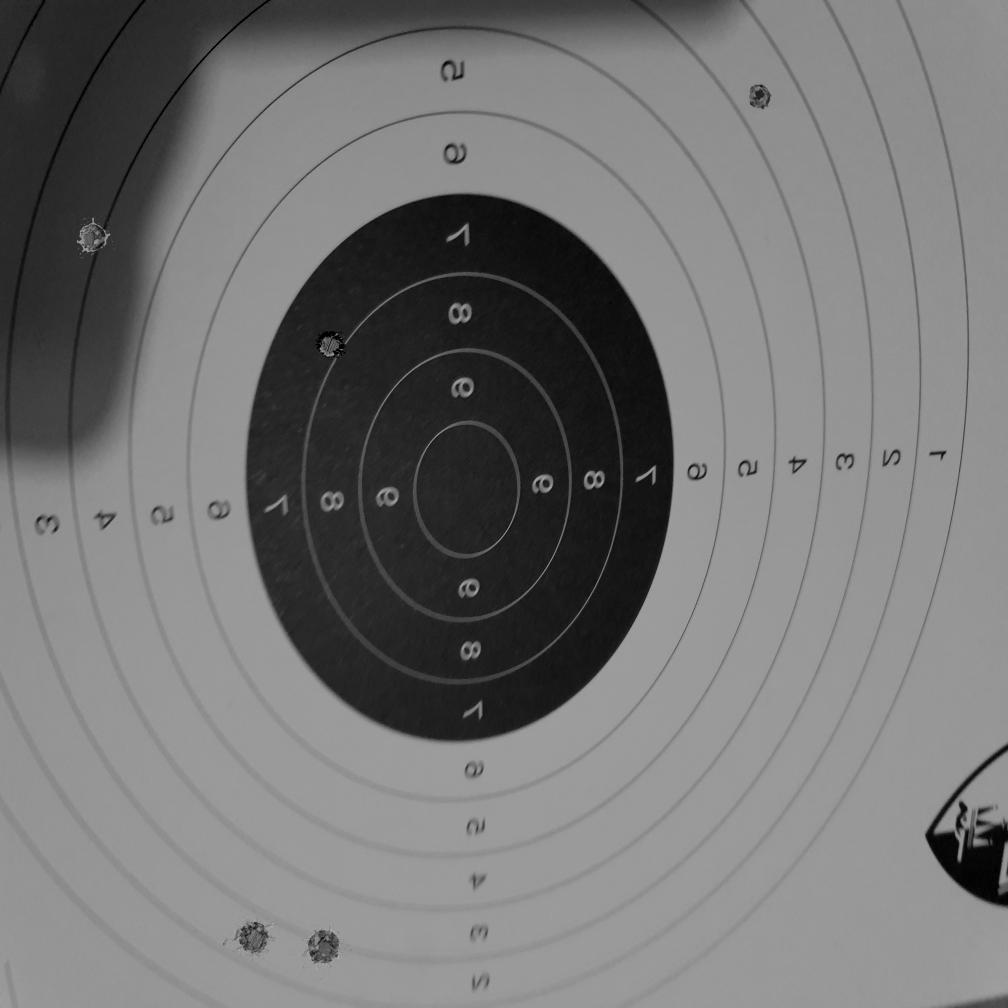2: (223, 917, 277, 960)
3: (302, 925, 344, 970), (75, 211, 112, 258)
4: (745, 81, 773, 113)
8: (315, 325, 347, 362)
Target: (1, 0, 985, 1003)
black_contour: (245, 192, 674, 743)
